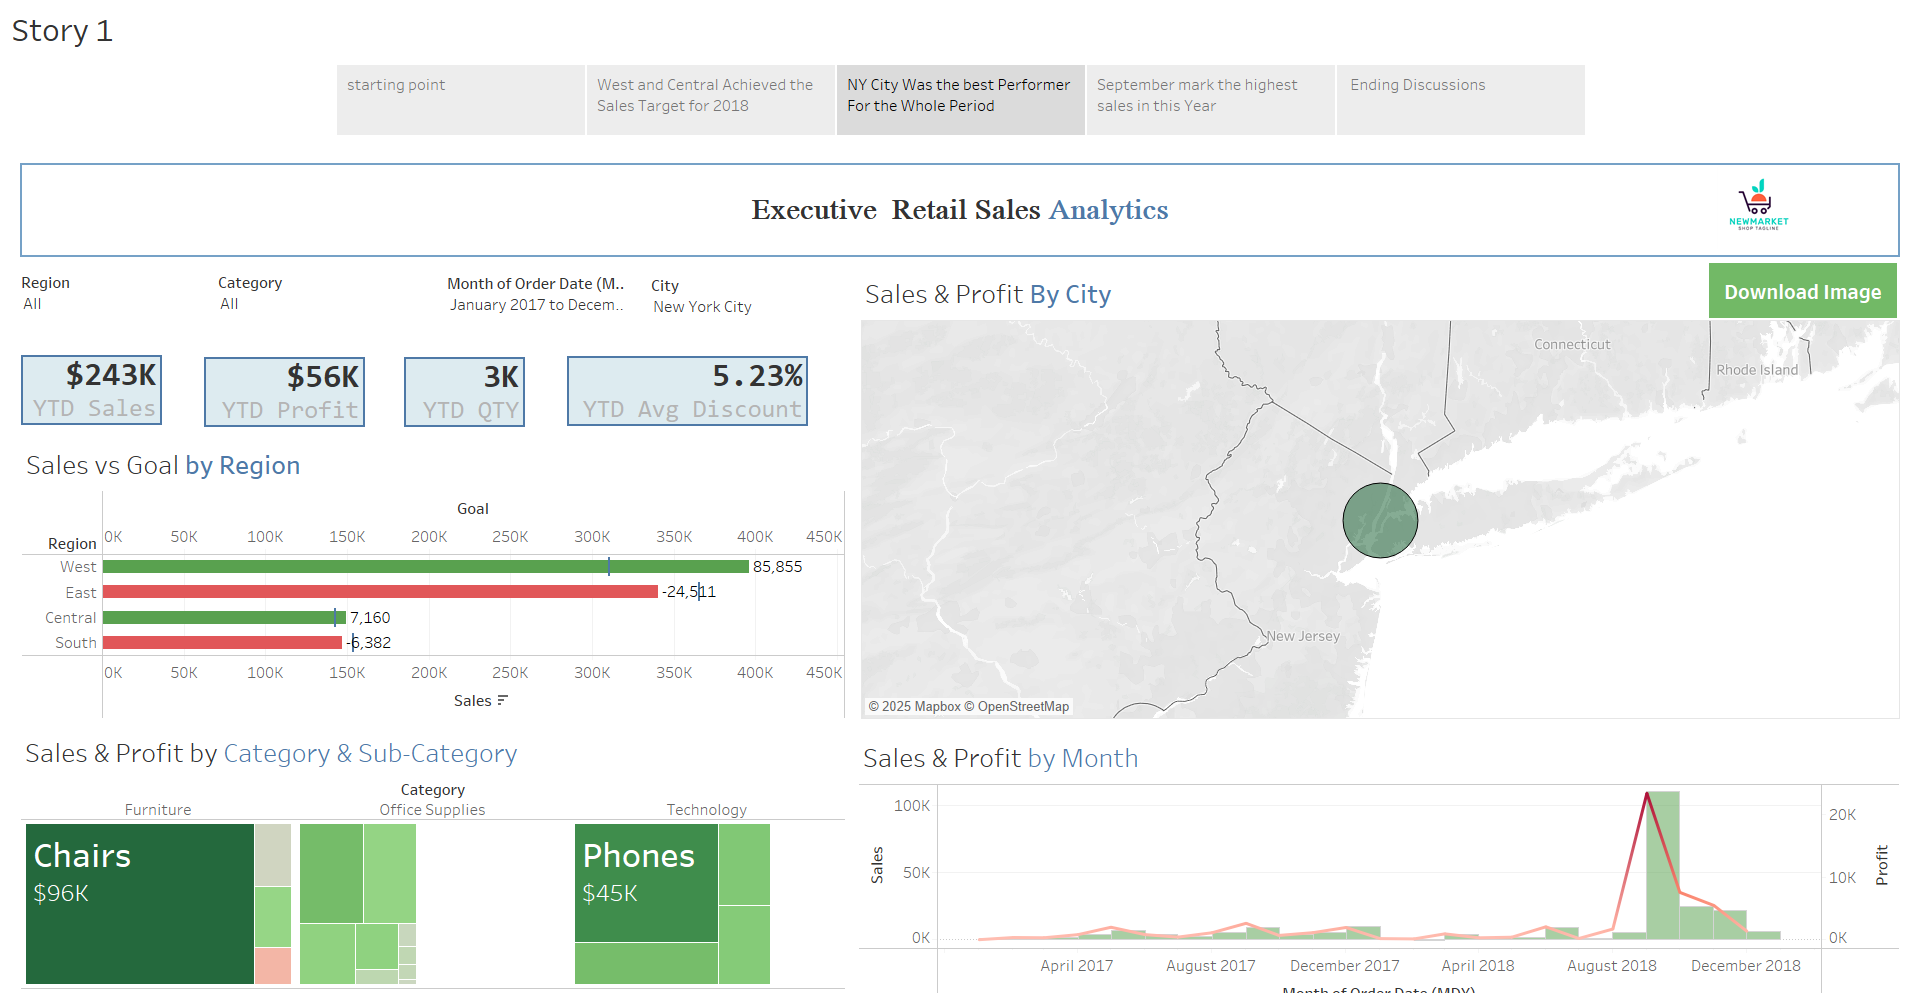

The dashboard page shown, as its layout file describes it:
{"tool":"tableau","page":{"name":"Dashboard 1","canvas":[1000,1000],"units":"permille","ordinal":0},"visuals":[{"type":"title","box":[4.8,10,990.3,127.3]},{"type":"image","param":"Image/super_store.png","box":[847.9,17.5,143.6,99.9]},{"type":"dashboard-object","box":[893.2,134.8,99,64.9]},{"type":"worksheet","title":"Sheet 5","mark":"Automatic","box":[447.8,142.3,545.6,538.1]},{"type":"filter","title":"Sheet 2","param":"[federated.0pw9m2j15kivcx12y29n40x45abf].[none:Region:nk]","box":[6.6,143.6,96.6,88.6]},{"type":"filter","title":"Sheet 3","param":"[federated.0pw9m2j15kivcx12y29n40x45abf].[none:Category:nk]","box":[110.4,143.6,108,88.6]},{"type":"filter","title":"Sheet 4","param":"[federated.0pw9m2j15kivcx12y29n40x45abf].[tmn:Order Date (MDY):qk]","box":[230.5,144.8,96.6,86.1]},{"type":"filter","title":"Sheet 5","param":"[federated.0pw9m2j15kivcx12y29n40x45abf].[none:City:nk]","box":[338,147.3,96.6,82.4]},{"type":"worksheet","title":"Sheet 6","mark":"Automatic","box":[6,243.5,91.7,111.1]},{"type":"worksheet","title":"Sheet 6 (4)","mark":"Automatic","box":[293.3,244.7,149.1,93.6]},{"type":"worksheet","title":"Sheet 6 (2)","mark":"Automatic","box":[102.6,245.9,101.4,89.9]},{"type":"worksheet","title":"Sheet 6 (3)","mark":"Automatic","box":[207.6,245.9,82.7,94.9]},{"type":"worksheet","title":"Sheet 2","mark":"Automatic","rows":["Region"],"cols":["Sales","Goal"],"box":[7.2,348.3,432.1,333.3]}]}

Visuals, with their boxes on the dashboard's canvas, which has no fixed pixel size, in thousandths of its width and height (x1, y1, x2, y2). These are canvas units, not pixel positions in the 1920x993 screenshot, which may show the page scaled, cropped or inside an application window:
title: BBox(5, 10, 995, 137)
image: BBox(848, 18, 992, 117)
dashboard-object: BBox(893, 135, 992, 200)
"Sheet 5" worksheet: BBox(448, 142, 993, 680)
"Sheet 2" filter: BBox(7, 144, 103, 232)
"Sheet 3" filter: BBox(110, 144, 218, 232)
"Sheet 4" filter: BBox(230, 145, 327, 231)
"Sheet 5" filter: BBox(338, 147, 435, 230)
"Sheet 6" worksheet: BBox(6, 244, 98, 355)
"Sheet 6 (4)" worksheet: BBox(293, 245, 442, 338)
"Sheet 6 (2)" worksheet: BBox(103, 246, 204, 336)
"Sheet 6 (3)" worksheet: BBox(208, 246, 290, 341)
"Sheet 2" worksheet: BBox(7, 348, 439, 682)
